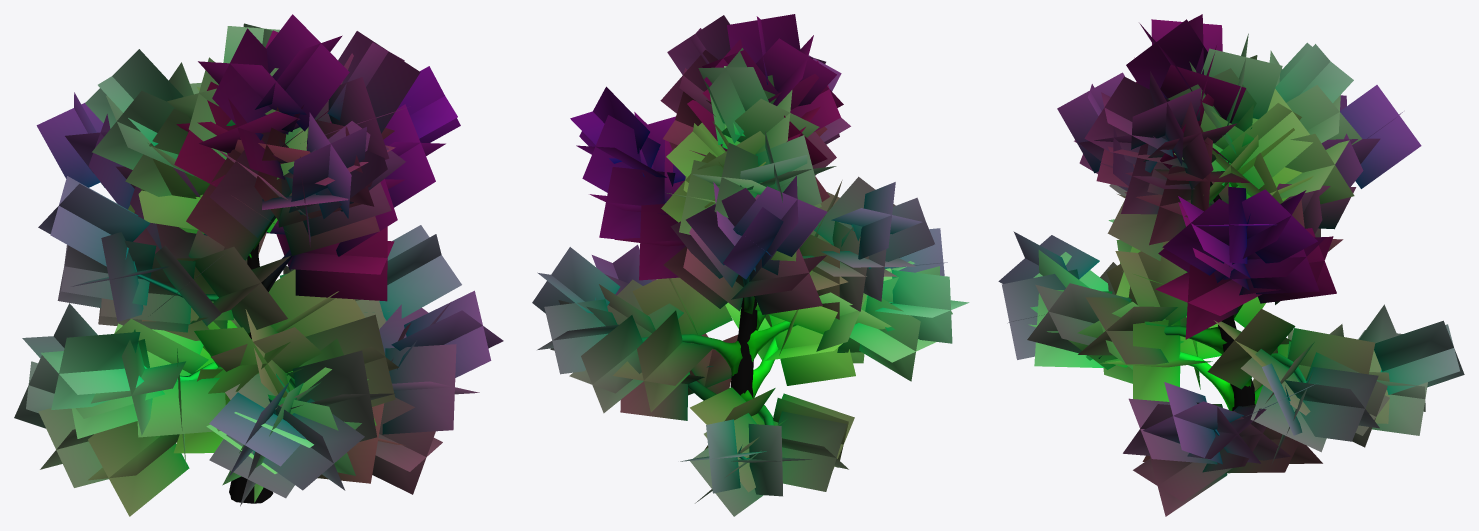
The model's file is M_P11_Tree_7.fbx.
3 renders of one model, left to right at view 1: azimuth 30°, elevation 25°; view 2: azimuth 150°, elevation 25°; view 3: azimuth 270°, elevation 25°, orthographic. The views are drawn at different scales.
Visible parts, largest first — view 1: Tree_7; view 2: Tree_7; view 3: Tree_7.
Part boxes in pixels (x1,y1,x2,y2): Tree_7: [14, 14, 503, 516]; Tree_7: [532, 14, 969, 516]; Tree_7: [998, 14, 1464, 516].
Bounding box in the file's own units: 635 × 667 × 627.
